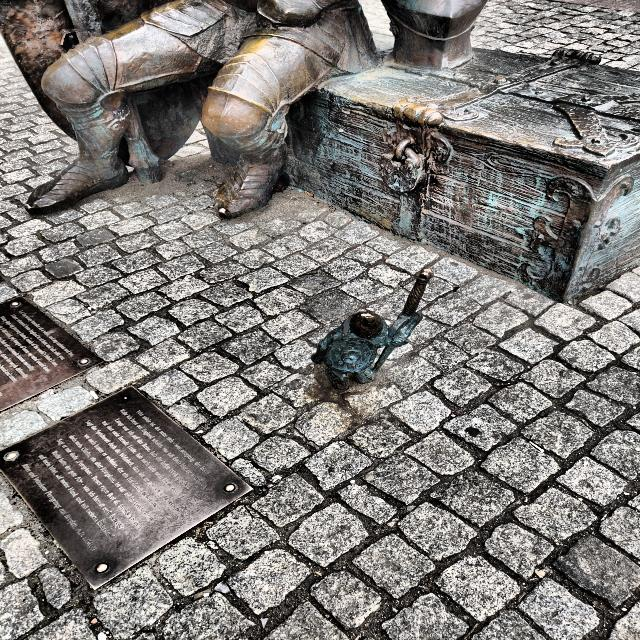Giermek_Grun-Waldek: (312, 270, 433, 390)
